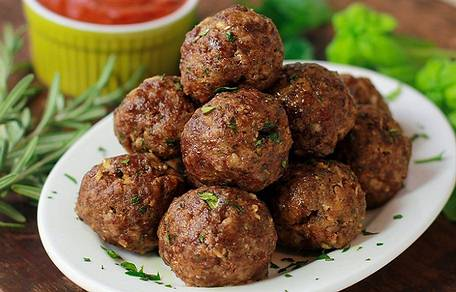meatballs: (127, 91, 349, 258), (183, 13, 286, 93)
